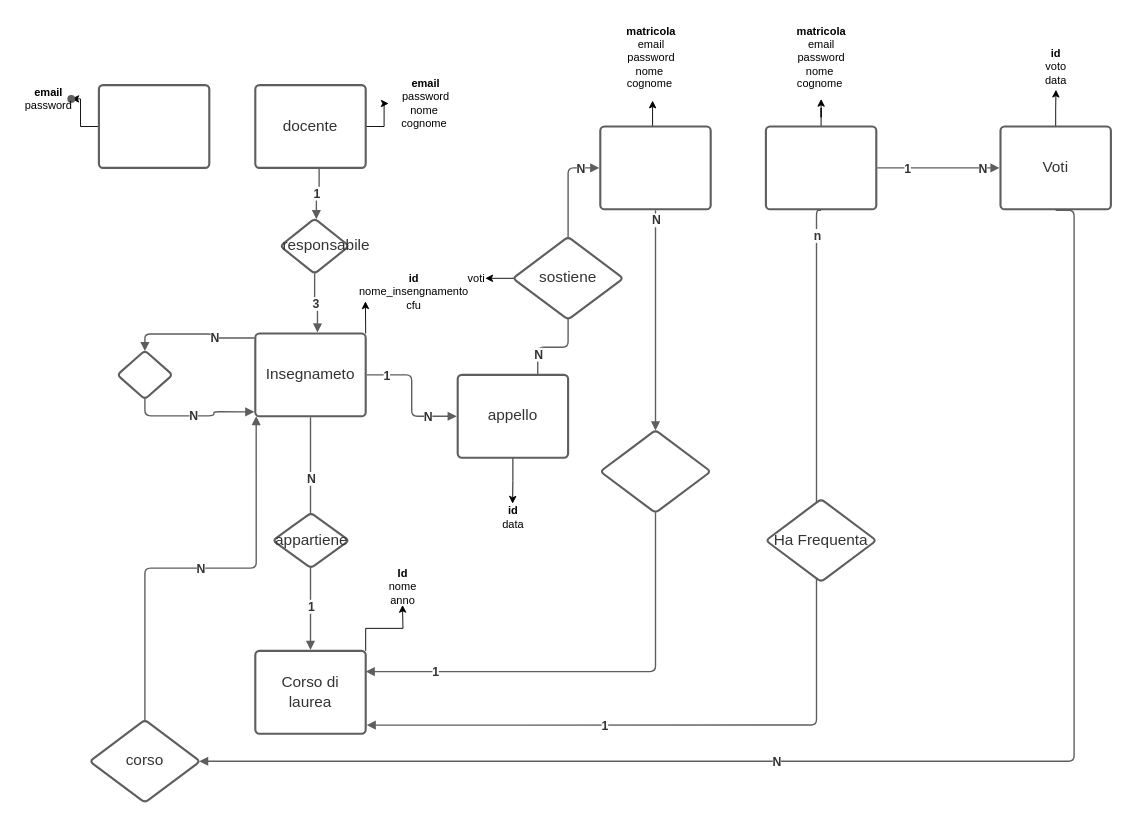
Some shapes in this 1128 by 820 pixel diagram are drawn without their labels. Each missing label, with the centre of its shape:
"Frequenta" goes at (x=655, y=471).
"Propedeuticità" goes at (x=144, y=374).
"segreteria" goes at (x=153, y=126).
"Studente" goes at (x=655, y=167).
"Studente_Arc" goes at (x=820, y=167).
